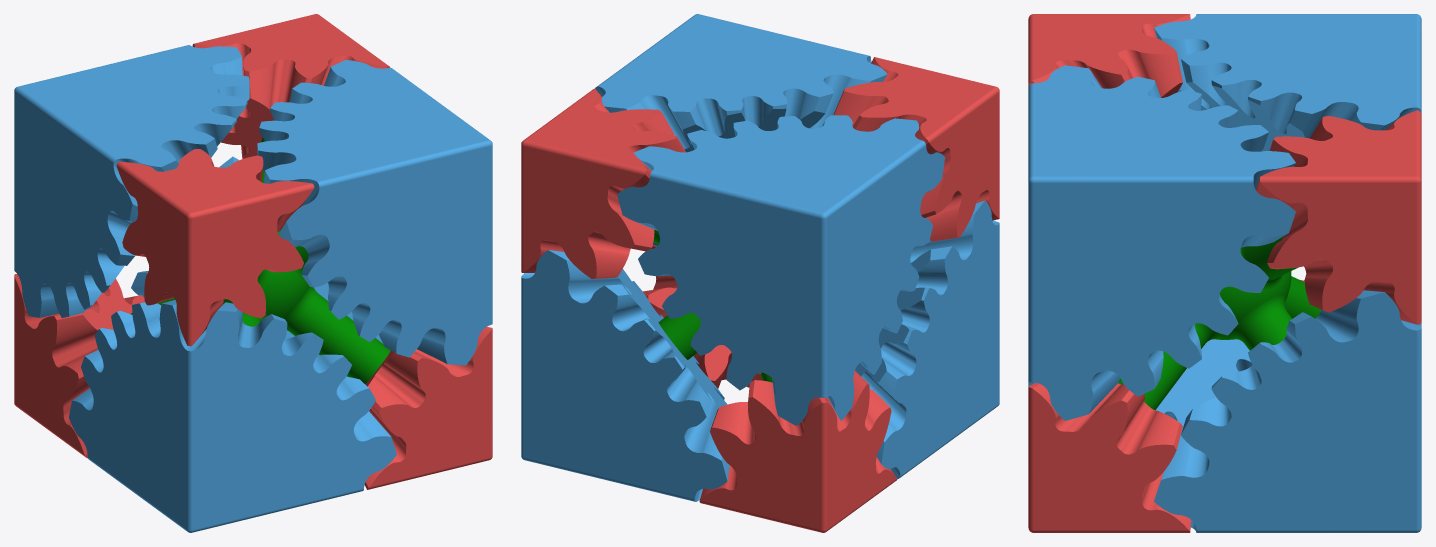
Rendered from cube-gears.glb.
3 views of the same model, side by side, from view 1: azimuth 30°, elevation 25°; view 2: azimuth 150°, elevation 25°; view 3: azimuth 270°, elevation 25° (orthographic). The views are drawn at different scales.
Parts seen in each view (by area): view 1: 3DGeom~76_3, 3DGeom~76, 3DGeom~76_4, 3DGeom~29_3, 3DGeom~29_2, 3DGeom~29_4, 3DGeom~29, 3DGeom~124, 3DGeom~76_2; view 2: 3DGeom~76_4, 3DGeom~76_2, 3DGeom~76_3, 3DGeom~76, 3DGeom~29_4, 3DGeom~29, 3DGeom~29_3, 3DGeom~29_2, 3DGeom~124; view 3: 3DGeom~76, 3DGeom~76_2, 3DGeom~76_4, 3DGeom~29, 3DGeom~29_2, 3DGeom~29_3, 3DGeom~124, 3DGeom~76_3.
Boxes of the visible parts, x1,y1,x2,y2 form: 3DGeom~76_3: (69, 300, 396, 532); 3DGeom~76: (257, 60, 492, 365); 3DGeom~76_4: (14, 45, 249, 317); 3DGeom~29_3: (116, 149, 314, 346); 3DGeom~29_2: (364, 327, 492, 489); 3DGeom~29_4: (14, 274, 144, 458); 3DGeom~29: (192, 14, 389, 158); 3DGeom~124: (130, 137, 390, 383); 3DGeom~76_2: (131, 156, 383, 376); 3DGeom~76_4: (617, 115, 945, 425); 3DGeom~76_2: (521, 250, 729, 501); 3DGeom~76_3: (855, 200, 999, 479); 3DGeom~76: (595, 14, 887, 245); 3DGeom~29_4: (699, 371, 897, 532); 3DGeom~29: (521, 88, 685, 278); 3DGeom~29_3: (833, 57, 999, 241); 3DGeom~29_2: (643, 245, 762, 388); 3DGeom~124: (653, 229, 772, 382); 3DGeom~76: (1028, 65, 1295, 420); 3DGeom~76_2: (1154, 290, 1421, 532); 3DGeom~76_4: (1154, 14, 1421, 151); 3DGeom~29: (1256, 110, 1421, 324); 3DGeom~29_2: (1028, 382, 1191, 532); 3DGeom~29_3: (1028, 14, 1190, 97); 3DGeom~124: (1118, 237, 1321, 410); 3DGeom~76_3: (1155, 339, 1252, 431).
Size of the model in its own units: 2.95 by 2.95 by 2.95.
